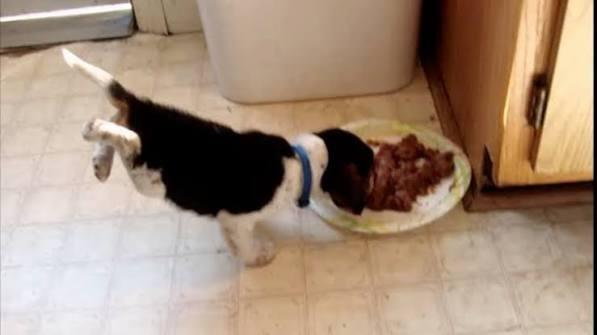puppy-dog: (67, 48, 374, 269)
